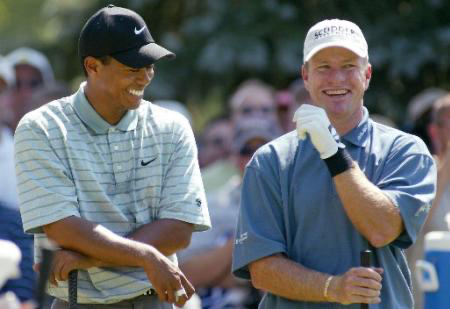Face: (309, 51, 369, 117), (111, 58, 160, 116)
